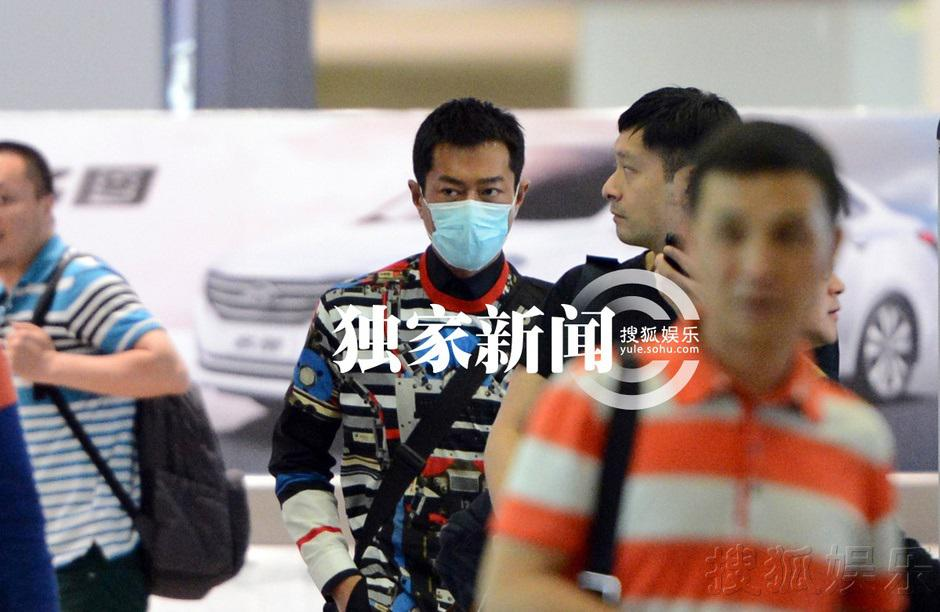NONE: (702, 202, 817, 327), (594, 151, 674, 245), (1, 170, 47, 254)
OK: (422, 170, 522, 270)
